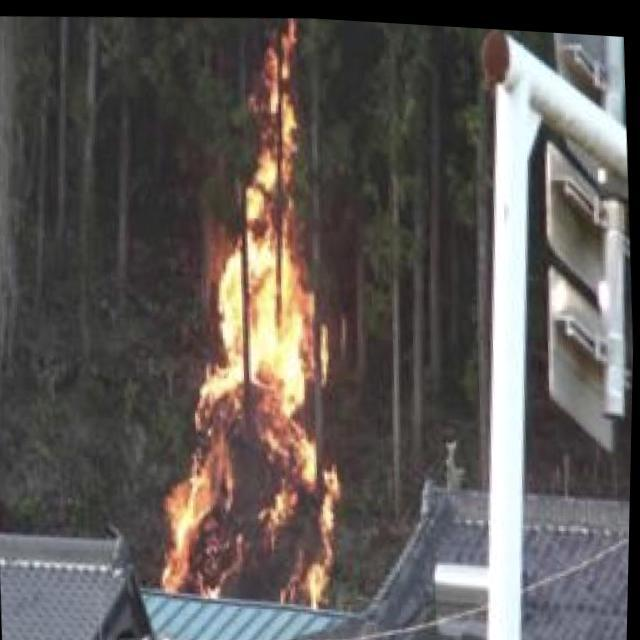fire: (143, 14, 355, 610)
